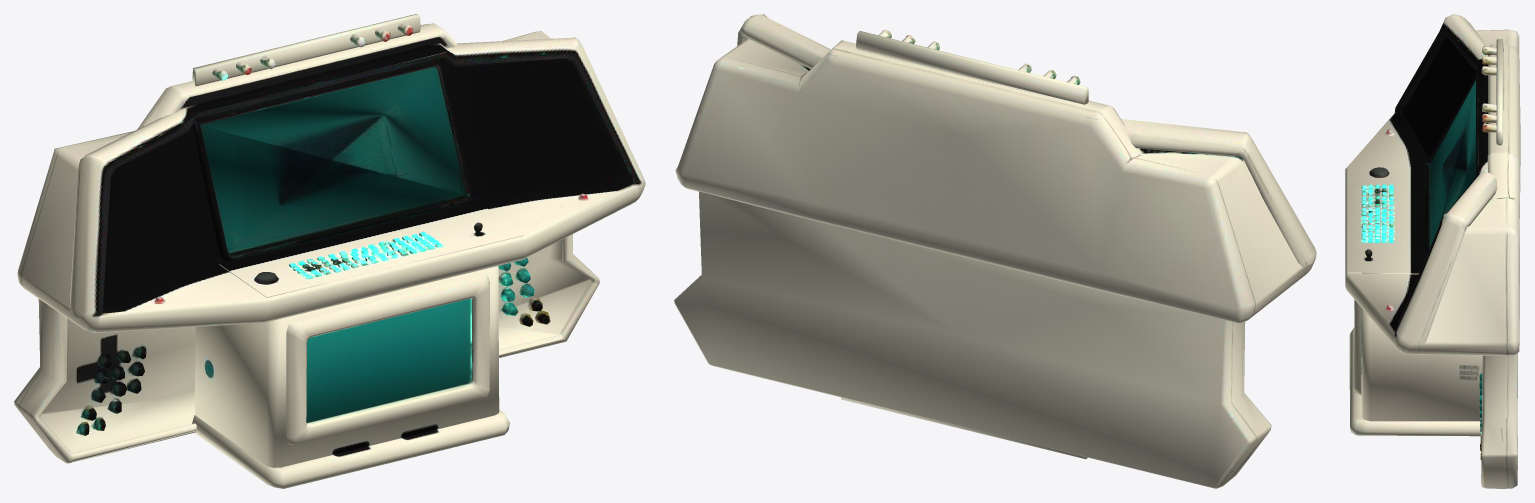
Rendered from console.glb.
3 views of the same model, side by side, from view 1: azimuth 30°, elevation 25°; view 2: azimuth 150°, elevation 25°; view 3: azimuth 270°, elevation 25° (orthographic). The views are drawn at different scales.
Bounding box in the file's own units: 1.82 × 1.1 × 0.5785.
Materials: 1 (1 with a texture image).
